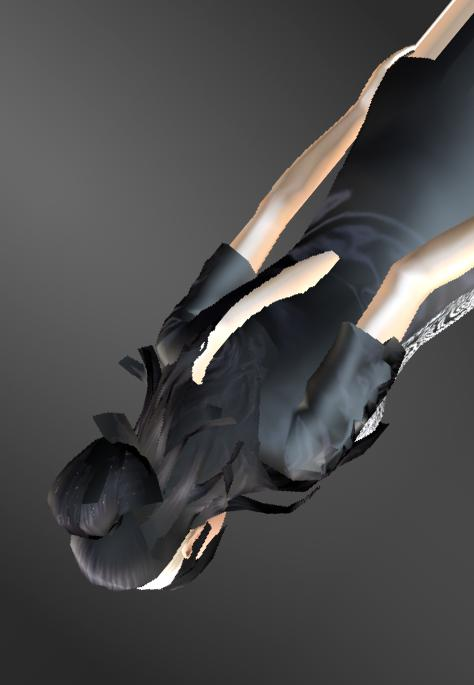clip: (296, 244, 346, 281)
